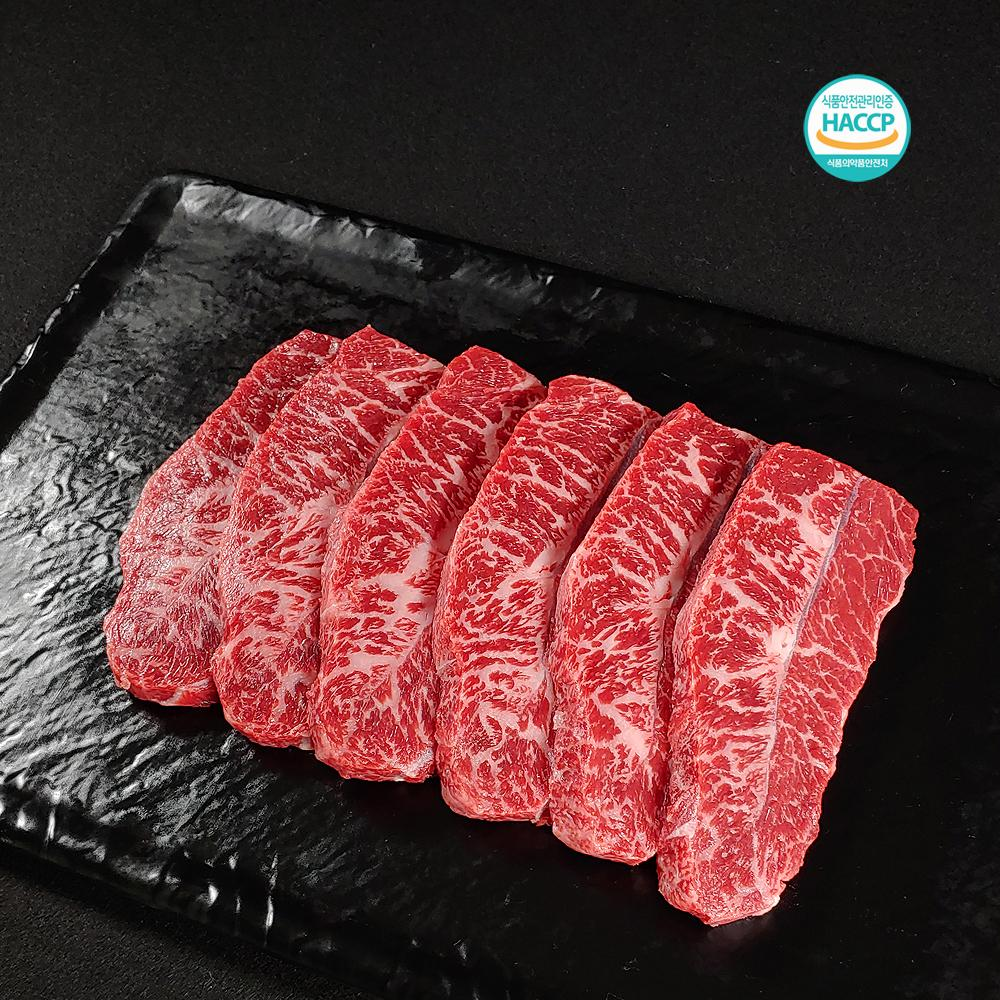beef: (388, 656, 716, 1000), (739, 712, 1000, 1000), (904, 766, 1000, 1000)
